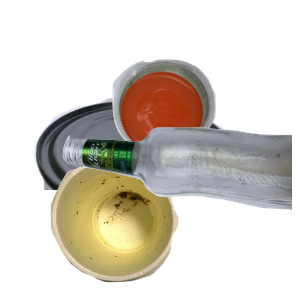glass: (60, 124, 300, 300)
metal: (16, 96, 244, 276)
plastic: (110, 57, 300, 205)
trash: (48, 152, 219, 300)
